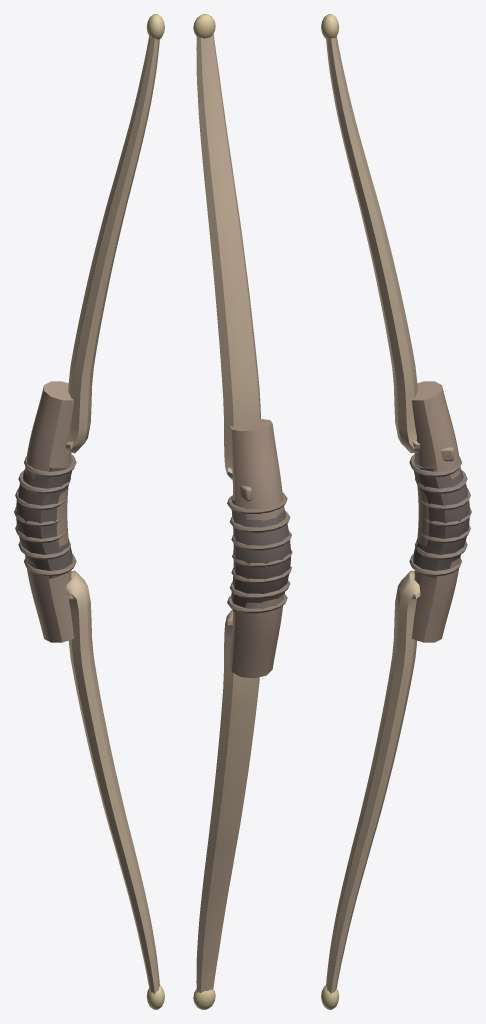
Rendered from Bow_Longbow.glb.
3 renders of one model, left to right at view 1: azimuth 90°, elevation 25°; view 2: azimuth 210°, elevation 25°; view 3: azimuth 270°, elevation 25°, orthographic.
Visible parts, largest first — view 1: sweep.001, sweep, sweep.002, sweep.003, Sphere; view 2: sweep, sweep.001, sweep.002, sweep.003, Sphere, Torus.005, Torus.006, Torus, Torus.001, Sphere.001, Torus.004, Torus.002 (+1 smaller); view 3: sweep.001, sweep, sweep.002, sweep.003, Sphere.
Boxes of the visible parts, x1,y1,x2,y2 form: sweep.001: [65, 570, 159, 993]; sweep: [65, 36, 159, 453]; sweep.002: [25, 381, 74, 642]; sweep.003: [16, 455, 72, 578]; Sphere: [146, 14, 164, 39]; sweep: [196, 34, 260, 479]; sweep.001: [196, 609, 259, 992]; sweep.002: [230, 419, 284, 678]; sweep.003: [231, 496, 291, 611]; Sphere: [193, 14, 215, 38]; Torus.005: [230, 511, 290, 532]; Torus.006: [227, 492, 287, 513]; Torus: [227, 594, 287, 613]; Torus.001: [230, 580, 290, 598]; Sphere.001: [193, 989, 215, 1009]; Torus.004: [231, 530, 291, 550]; Torus.002: [231, 566, 291, 583]; sweep.001: [326, 570, 420, 993]; sweep: [326, 36, 420, 453]; sweep.002: [411, 381, 460, 642]; sweep.003: [413, 455, 469, 578]; Sphere: [321, 14, 339, 39].
Size of the model in its own units: 0.0521 by 0.9025 by 0.1242.
